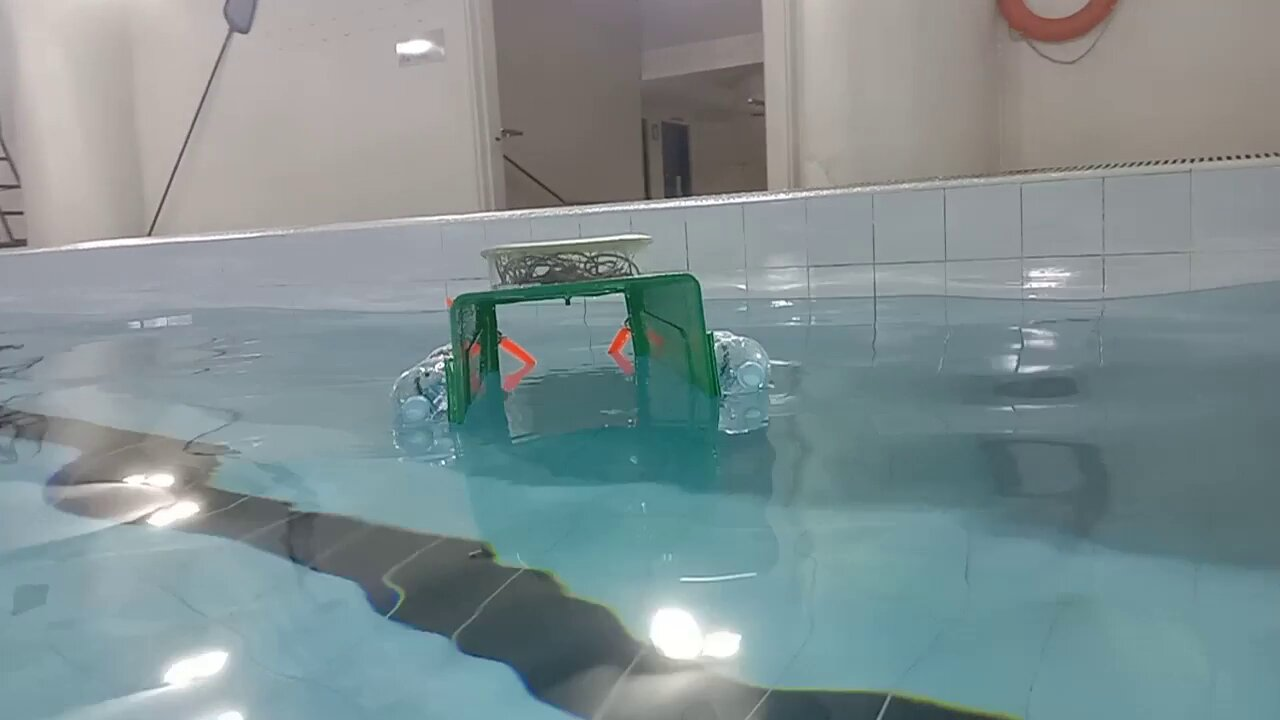drone: (389, 232, 776, 431)
